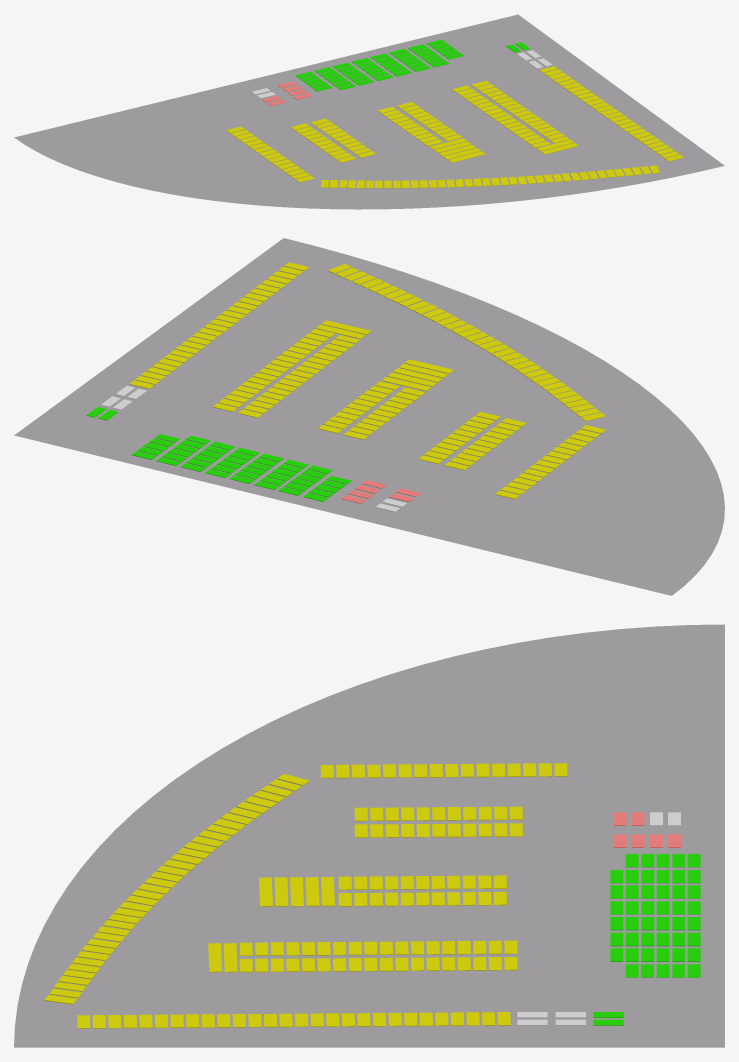
The model's file is depo-4.glb.
3 views of the same model, one above another, from view 1: azimuth 30°, elevation 25°; view 2: azimuth 150°, elevation 25°; view 3: azimuth 270°, elevation 25° (orthographic). The views are drawn at different scales.
Visible parts, largest first — view 1: #BASE LAYER; view 2: #BASE LAYER; view 3: #BASE LAYER.
Part boxes in pixels (<box>): #BASE LAYER: <box>14,14,724,209</box>; #BASE LAYER: <box>14,238,724,595</box>; #BASE LAYER: <box>14,624,724,1047</box>.
Bounding box in the file's own units: 160 × 0.2 × 113.
